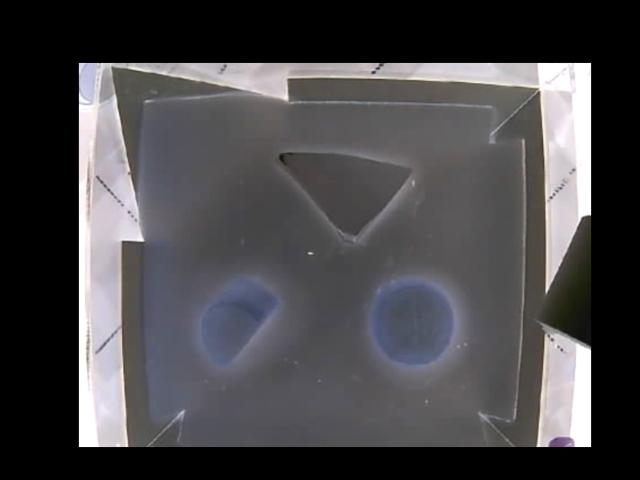China: (276, 148, 413, 242)
Mooli: (198, 274, 282, 369), (371, 275, 453, 362)
